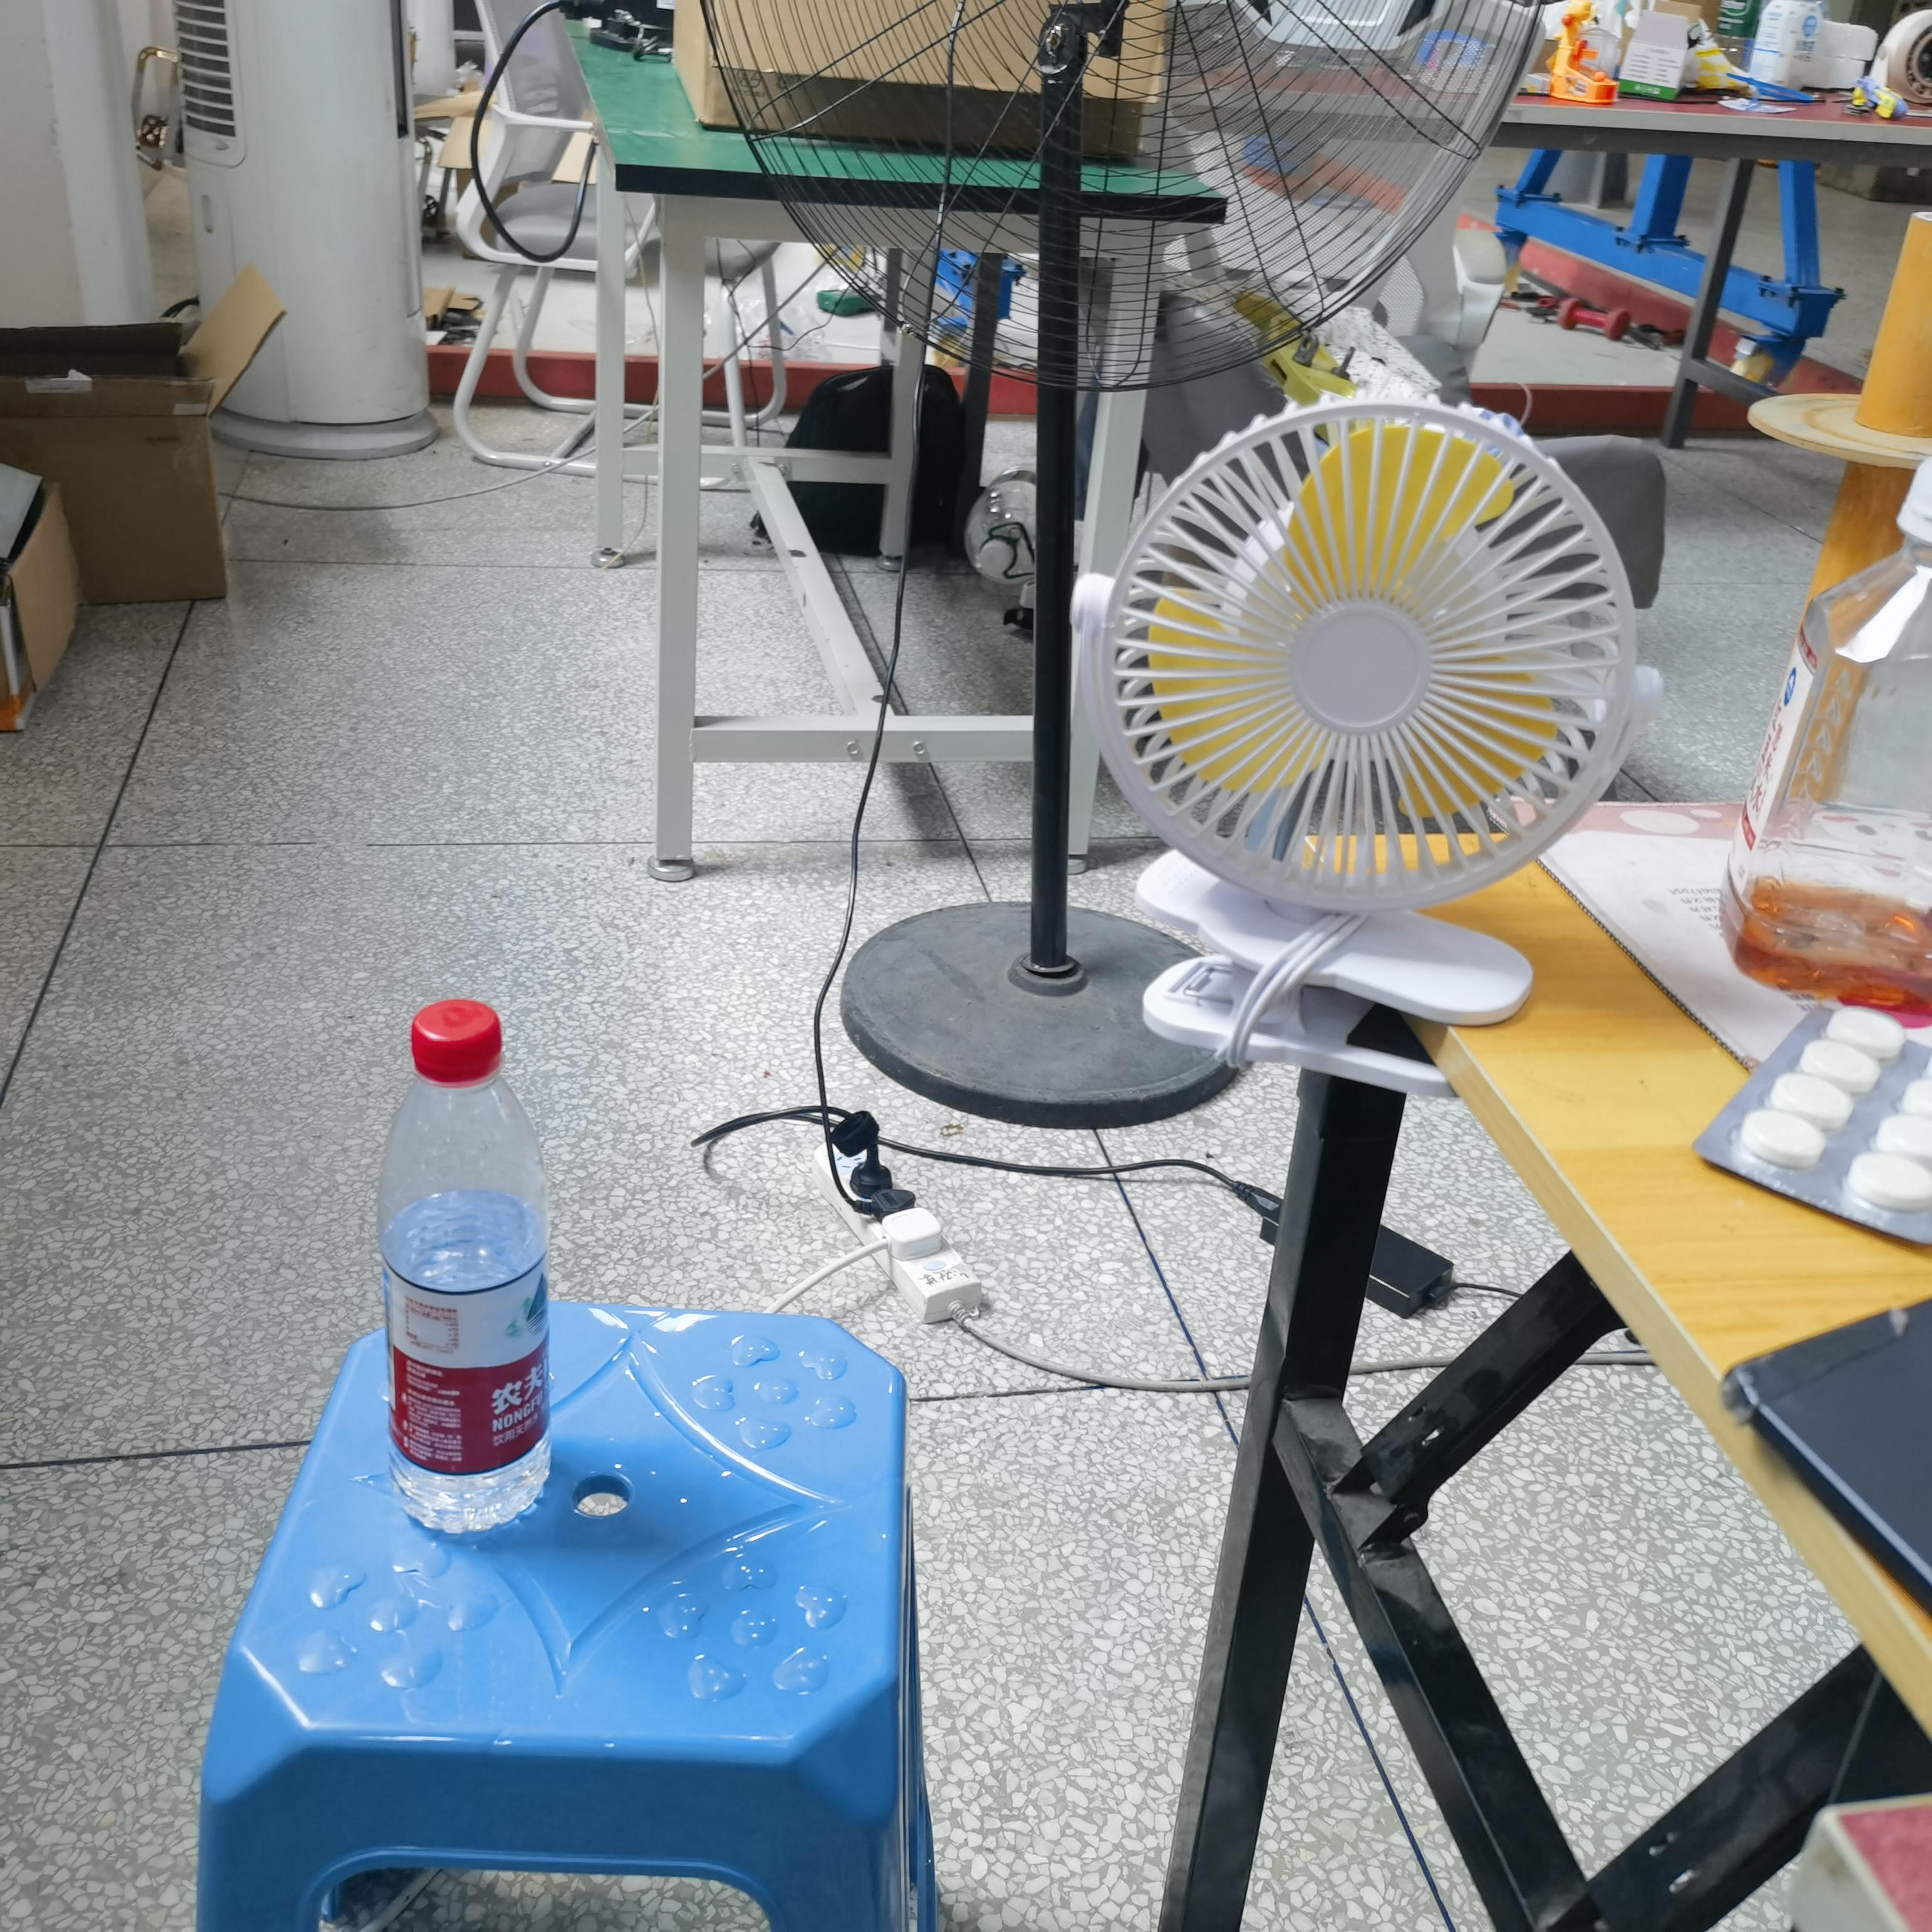bottle: (379, 1000, 550, 1534)
fan: (1072, 398, 1656, 1097)
